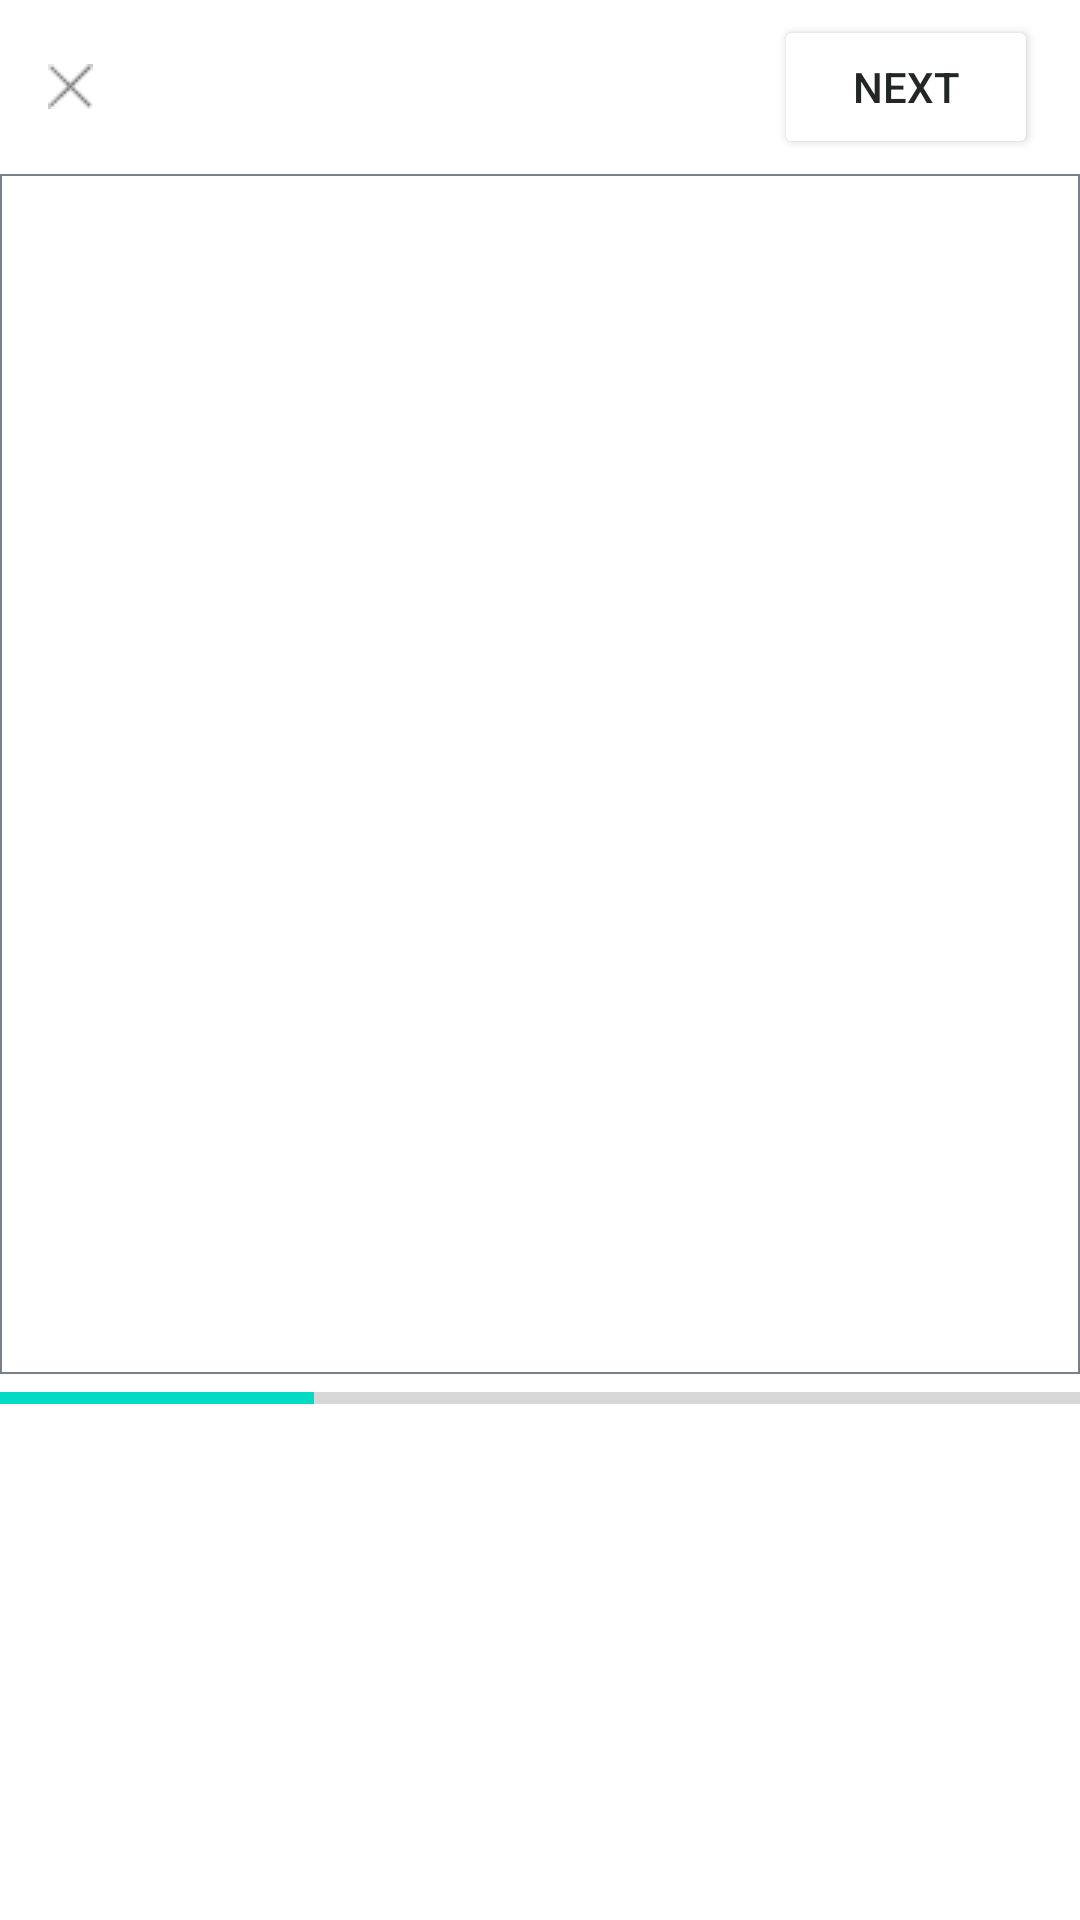

Named icons in this screenshot (1080w x 1920h) and their bounding boxes, (x1, y1, x2, y2):
close: (48, 64, 93, 109)
